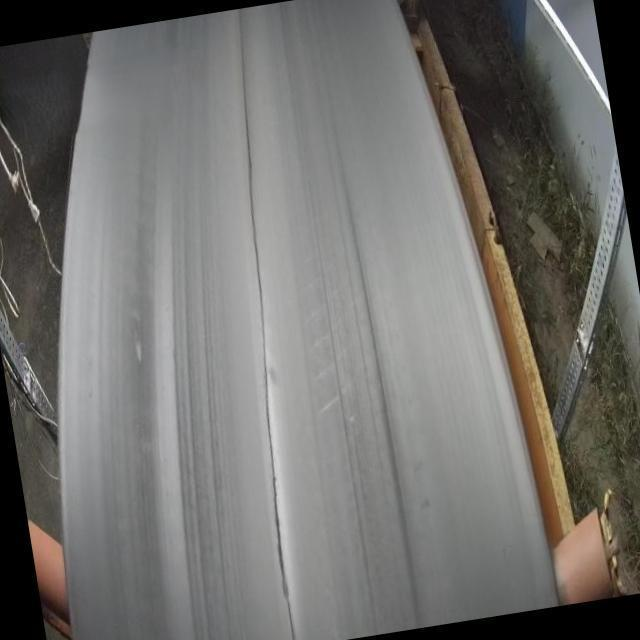Tear: (232, 4, 298, 640)
